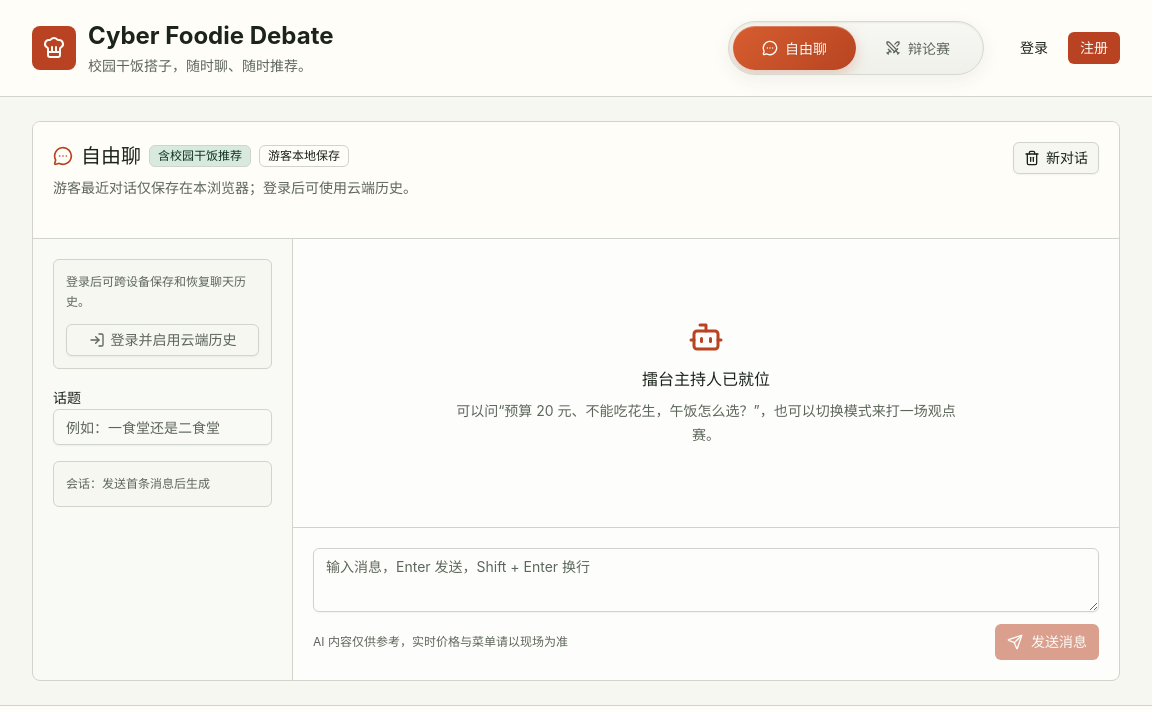
Scenario: header authentication transitions › switches after 注册 and restores links after logout using the existing auth flow
The width and height of the screenshot is (1152, 712).
Click the link "注册": coordinates (1094, 48) [1068,32,1120,64]
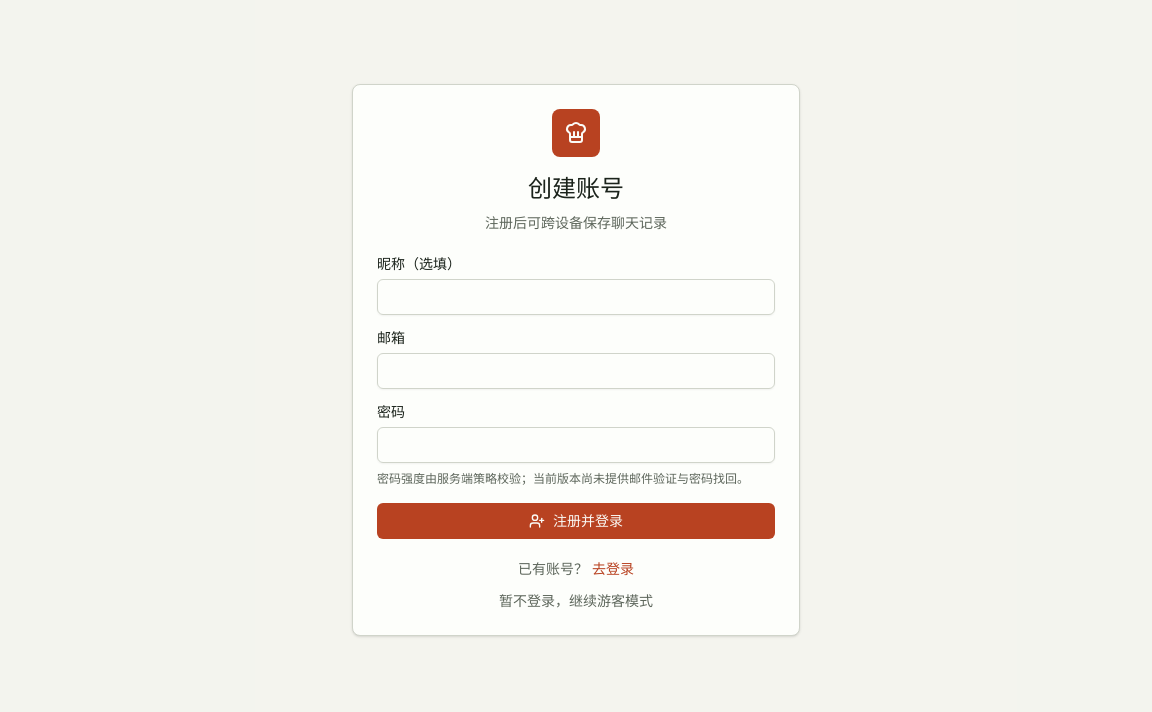
In the field labelled "邮箱": coordinates (576, 371) [377,353,775,389], type "foodie@example.com"
In the password field labelled "密码": coordinates (576, 445) [377,427,775,463], type "offline-test-password"
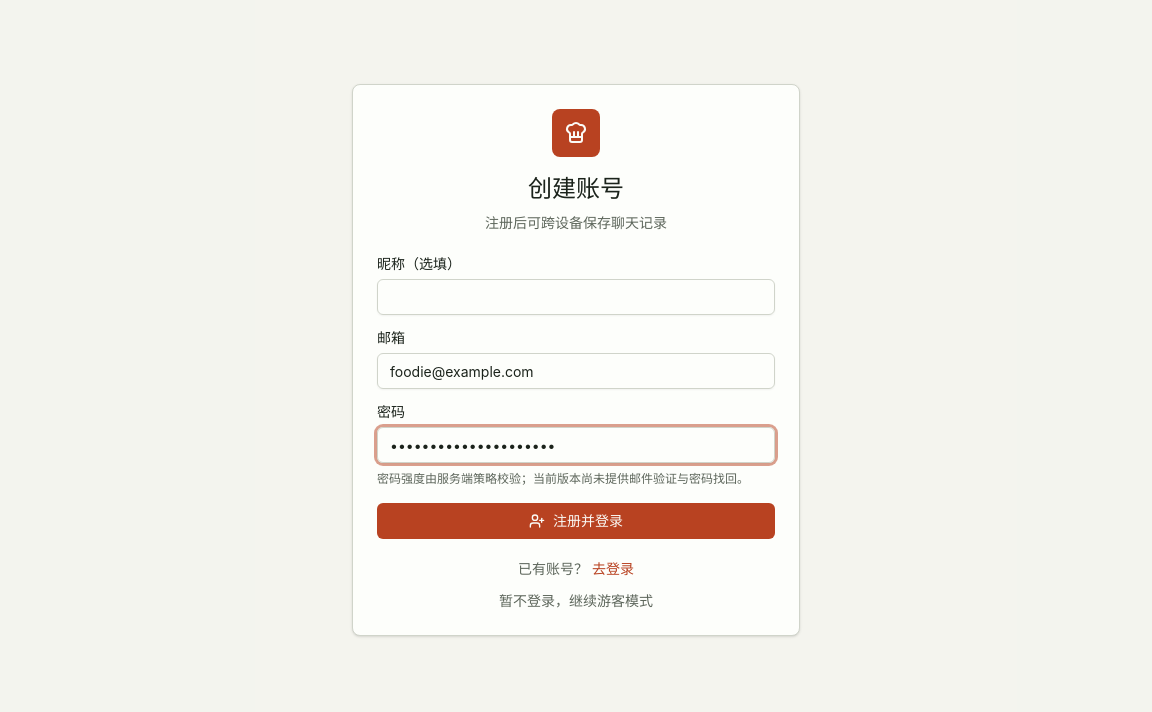
In the field labelled "昵称（选填）": coordinates (576, 297) [377,279,775,315], type "校园干饭搭子"
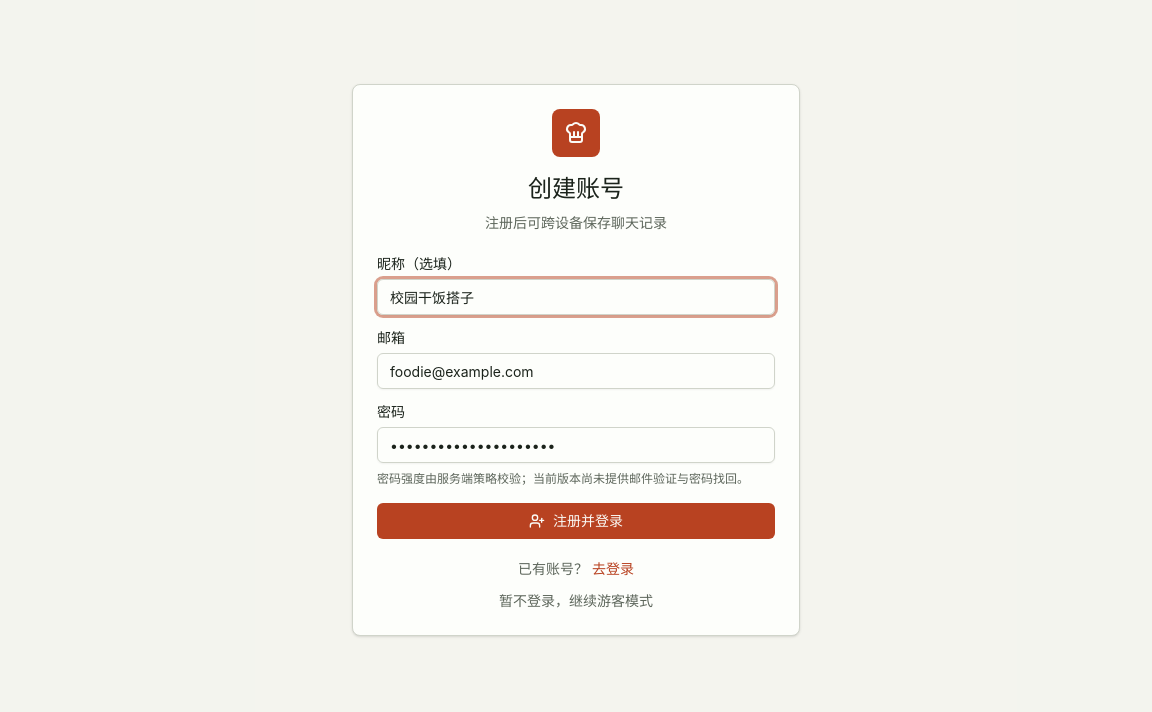
Click the button "注册并登录": coordinates (576, 521) [377,503,775,539]
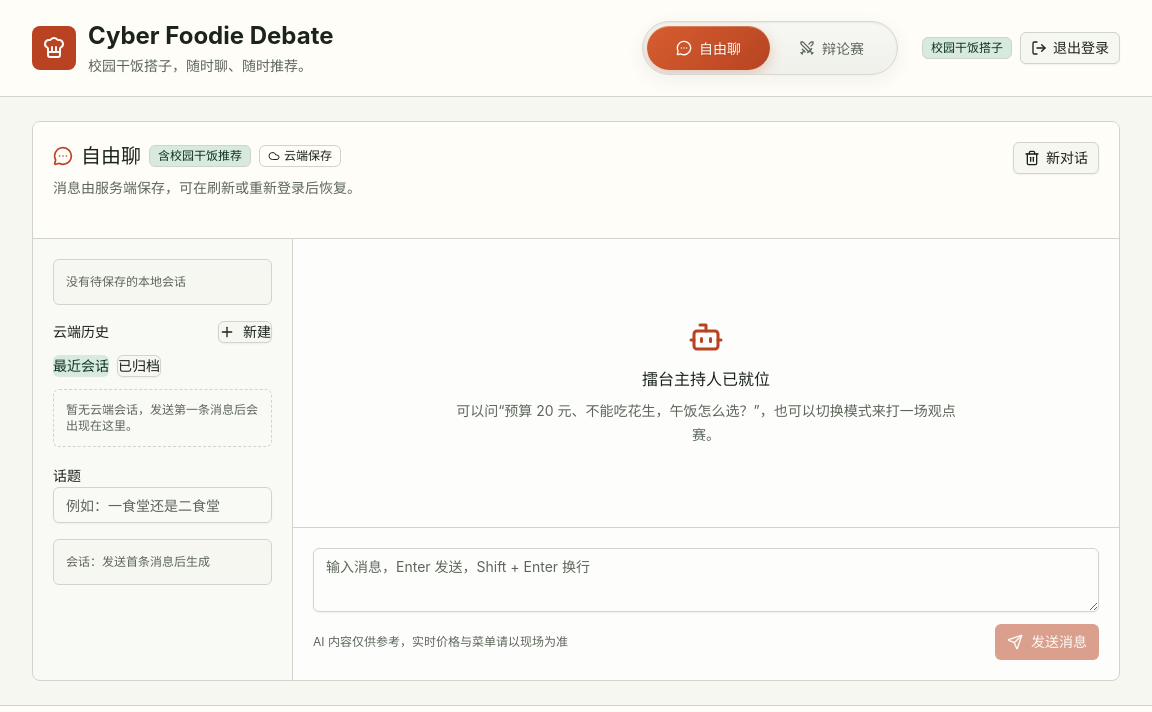
Expected: the text "注册" is gone
Click the tab "辩论赛": coordinates (832, 48) [770,26,893,70]
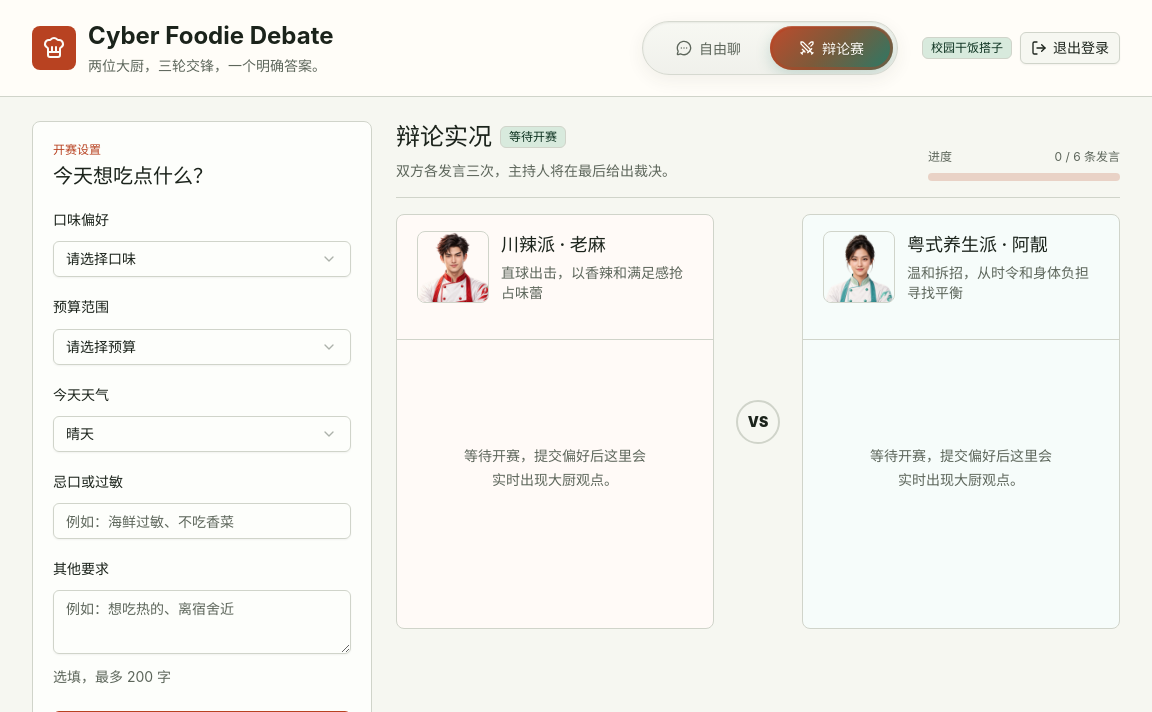
Expected: the button "退出登录" is shown
Click the button "退出登录": coordinates (1070, 48) [1020,32,1120,64]
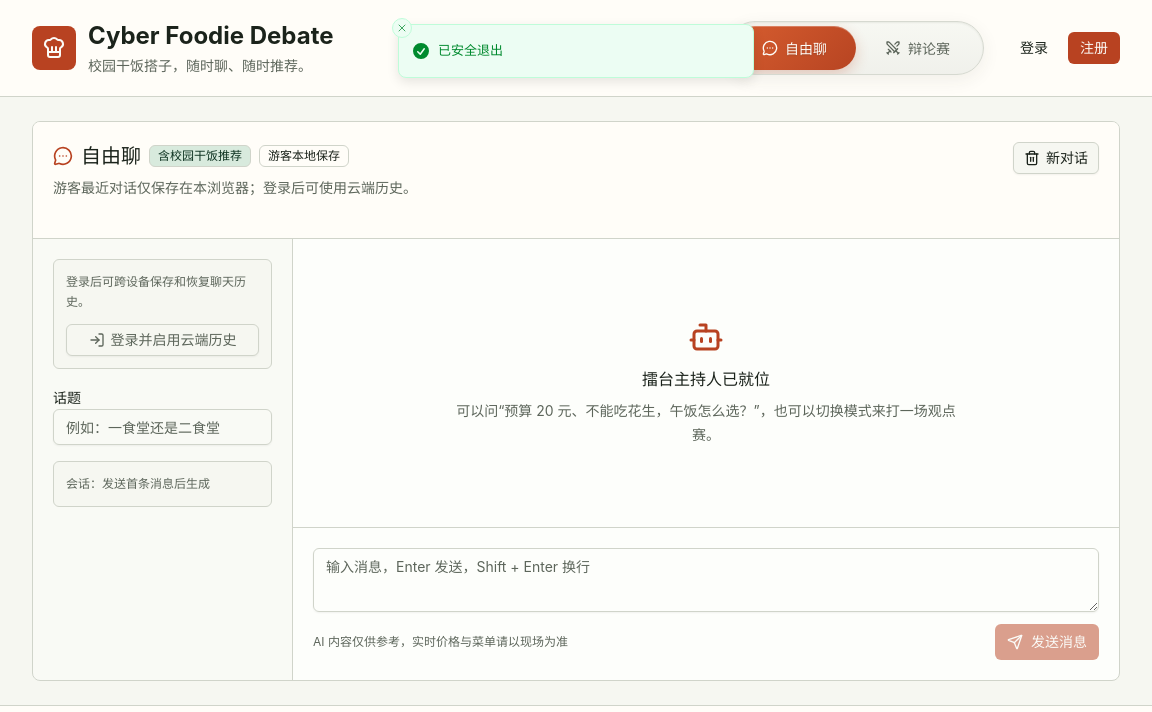
Expected: the link "登录" is shown, [1020,39,1048,56]
Expected: the link "注册" is shown, [1068,32,1120,64]
Expected: the button "退出登录" is gone
